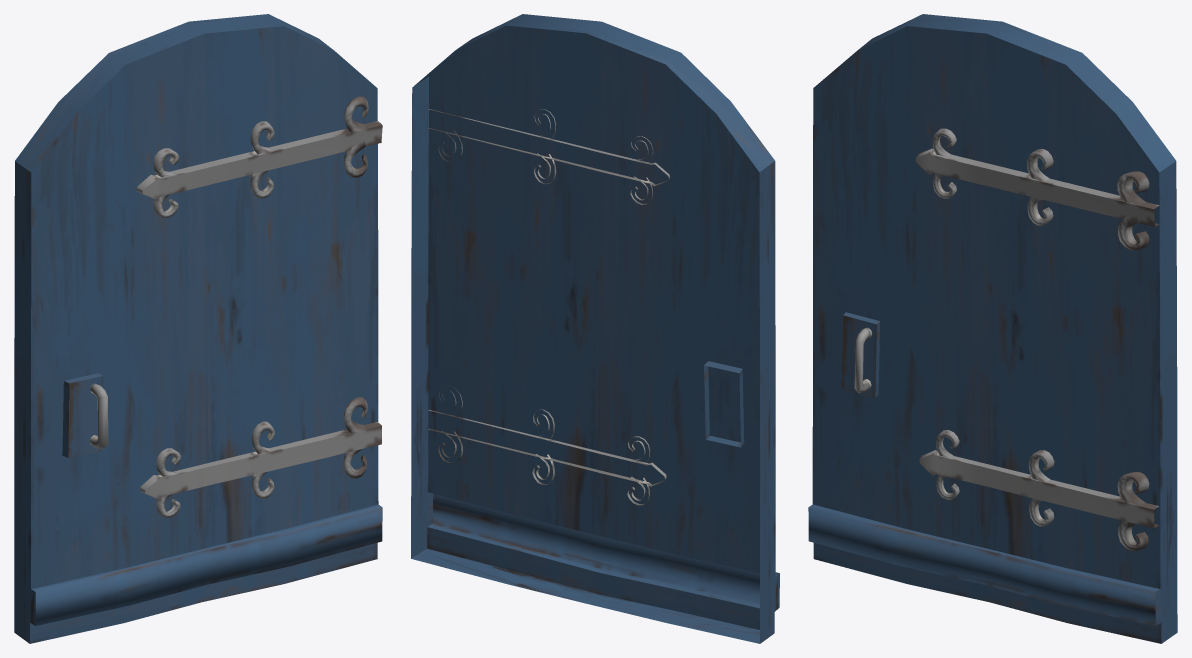
File: Puerta_v2.fbx
3 renders of one model, left to right at view 1: azimuth 30°, elevation 25°; view 2: azimuth 150°, elevation 25°; view 3: azimuth 330°, elevation 25°, orthographic.
Parts seen in each view (by area): view 1: Puerta1; view 2: Puerta1; view 3: Puerta1.
Boxes of the visible parts, x1,y1,x2,y2 form: Puerta1: (14,14,382,643); Puerta1: (411,14,779,643); Puerta1: (808,14,1177,643).
Bounding box in the file's own units: 435 × 679 × 68.15.
1 material, 1 textured.
